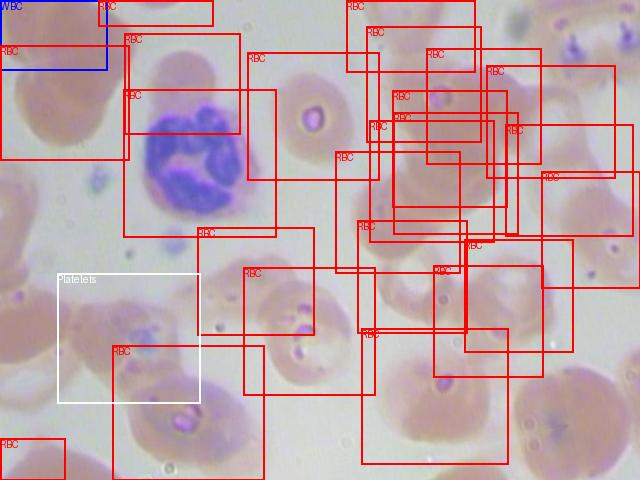Platelets: (57, 273, 200, 403)
RBC: (123, 89, 276, 237), (112, 345, 264, 480), (361, 328, 508, 464), (243, 267, 375, 395), (247, 52, 379, 180), (393, 112, 518, 234), (369, 120, 494, 242), (335, 151, 460, 273), (0, 45, 129, 160), (486, 65, 615, 178), (505, 124, 633, 236), (392, 90, 507, 207), (426, 48, 541, 164), (366, 26, 481, 142), (197, 227, 314, 335), (357, 220, 467, 333), (433, 265, 543, 377), (464, 239, 573, 352), (124, 33, 240, 134), (541, 171, 640, 288), (346, 0, 475, 72), (98, 0, 213, 26), (0, 438, 65, 480)
WBC: (0, 0, 107, 70)
